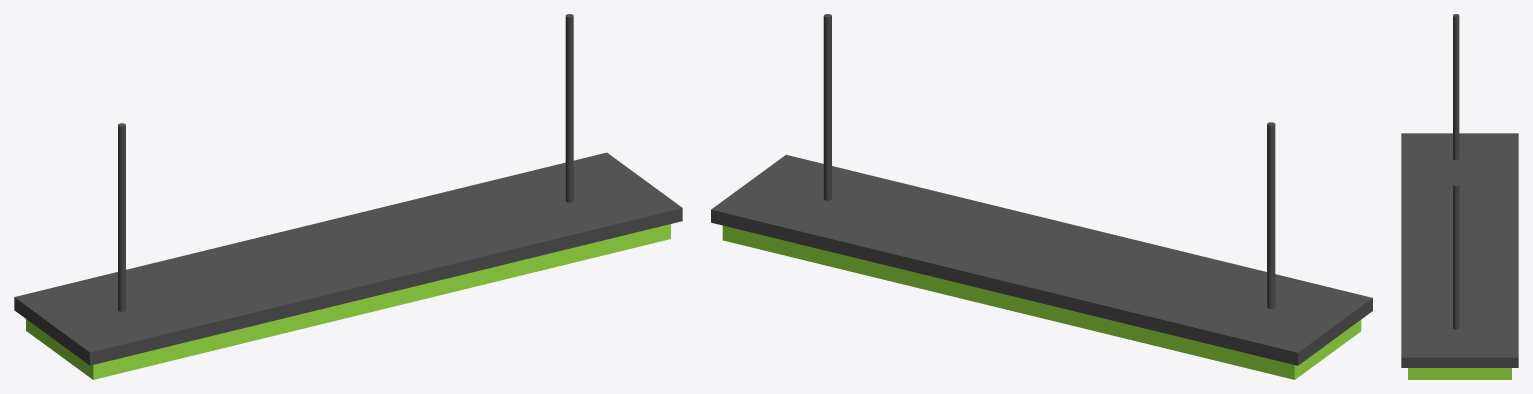
The model's file is lights_01.fbx.
The picture shows the model from 3 angles, left to right: view 1: azimuth 30°, elevation 25°; view 2: azimuth 150°, elevation 25°; view 3: azimuth 270°, elevation 25°; orthographic projection. The views are drawn at different scales.
Visible parts, largest first — view 1: lights_01; view 2: lights_01; view 3: lights_01.
Boxes of the visible parts, bbox=[...] form: lights_01: bbox=[14, 14, 682, 379]; lights_01: bbox=[711, 14, 1372, 379]; lights_01: bbox=[1401, 14, 1518, 379].
Size of the model in its own units: 237 by 83.03 by 52.4.
